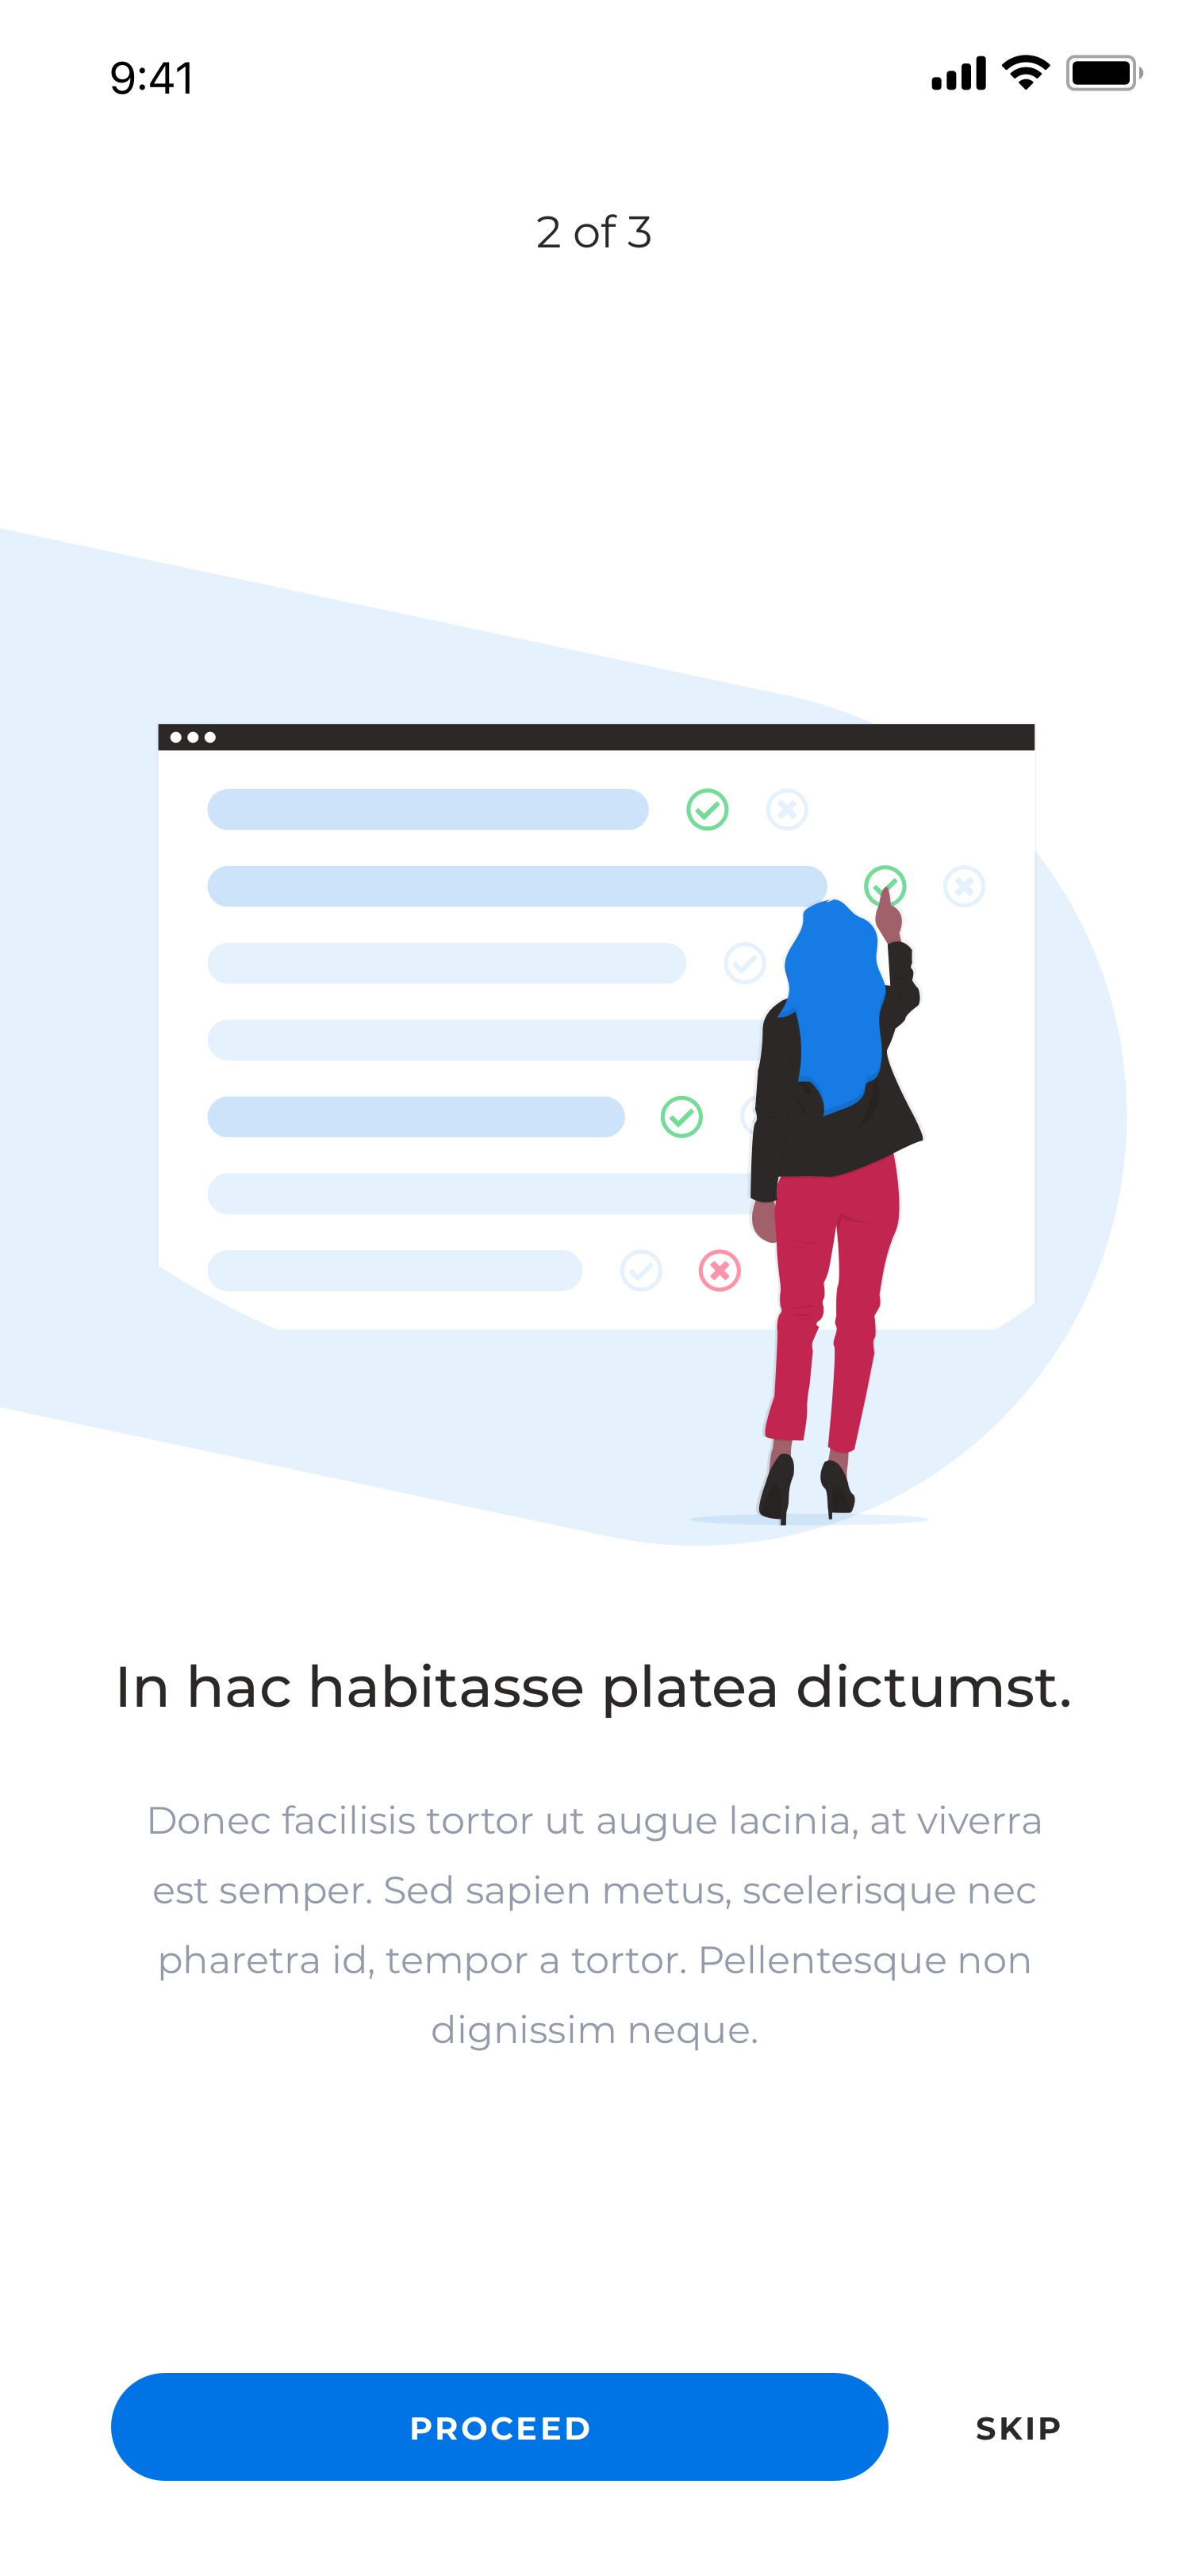Image: (143, 716, 1049, 1536)
Text: (150, 1804, 1042, 2052), (118, 1663, 1070, 1720), (536, 214, 653, 250), (976, 2415, 1060, 2441)
TextButton: (112, 2372, 889, 2482)
UpperTaskBar: (112, 54, 1144, 97)
